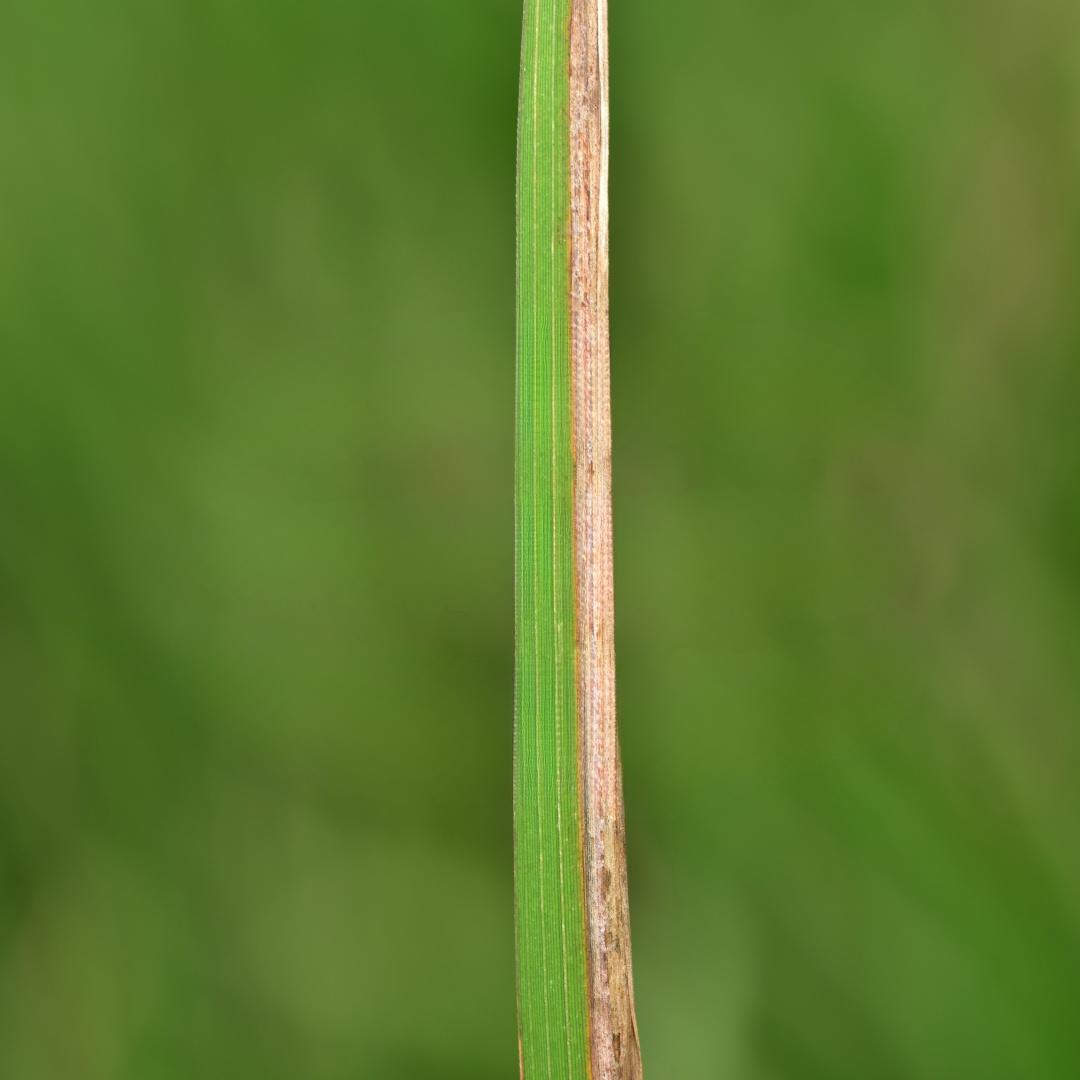BLB: (570, 0, 642, 1079)
